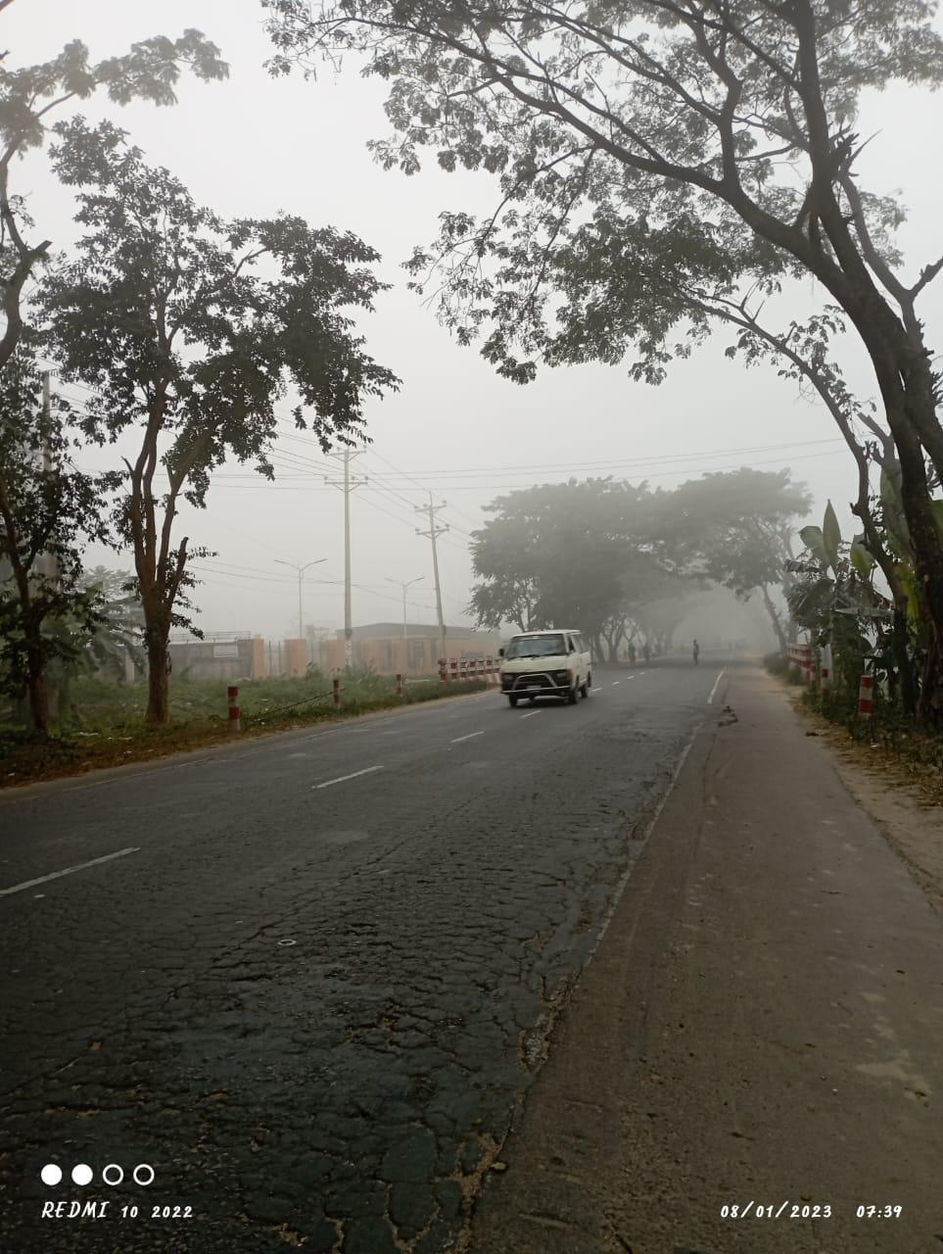Car: (486, 624, 608, 716)
